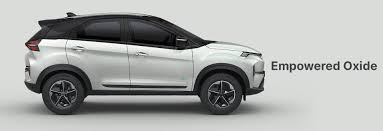Tata Nexon: (20, 4, 267, 116)
